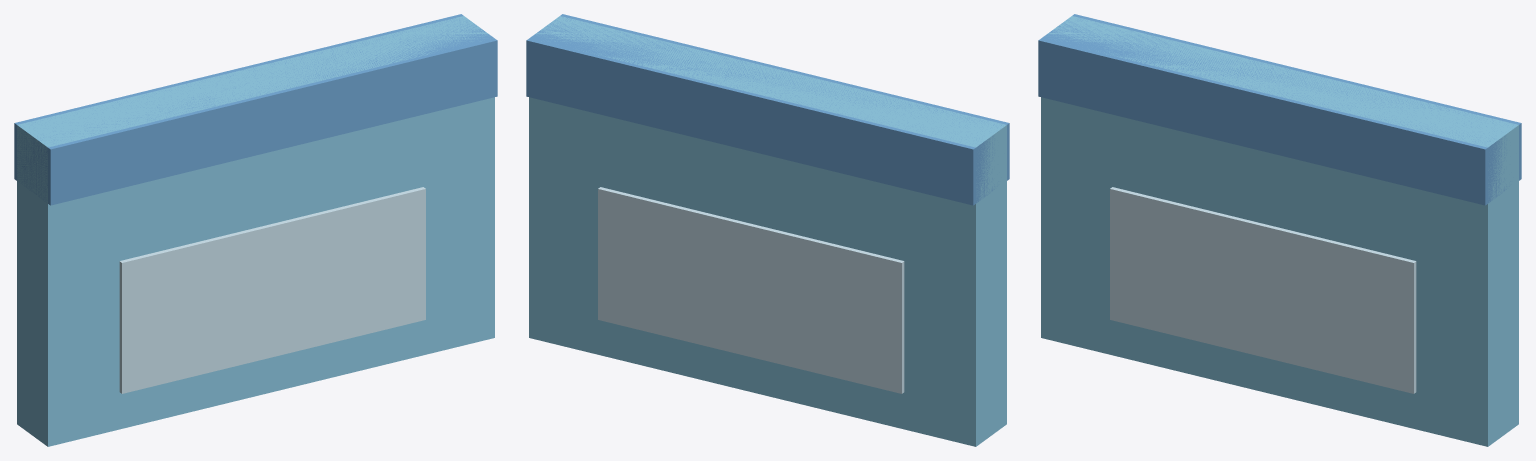
Rendered from packet.glb.
3 renders of one model, left to right at view 1: azimuth 30°, elevation 25°; view 2: azimuth 150°, elevation 25°; view 3: azimuth 330°, elevation 25°, orthographic.
Visible parts, largest first — view 1: packet_envelope, packet_payload, packet_header_strip; view 2: packet_envelope, packet_payload, packet_header_strip; view 3: packet_envelope, packet_payload, packet_header_strip.
Part boxes in pixels (bbox=[...]): packet_envelope: bbox=[17, 16, 494, 446]; packet_payload: bbox=[119, 187, 425, 393]; packet_header_strip: bbox=[14, 14, 497, 205]; packet_envelope: bbox=[529, 16, 1006, 446]; packet_payload: bbox=[598, 187, 904, 393]; packet_header_strip: bbox=[526, 14, 1009, 205]; packet_envelope: bbox=[1041, 16, 1518, 446]; packet_payload: bbox=[1110, 187, 1416, 393]; packet_header_strip: bbox=[1038, 14, 1521, 205].
Bounding box in the file's own units: 1.67 × 1.07 × 0.2342.
